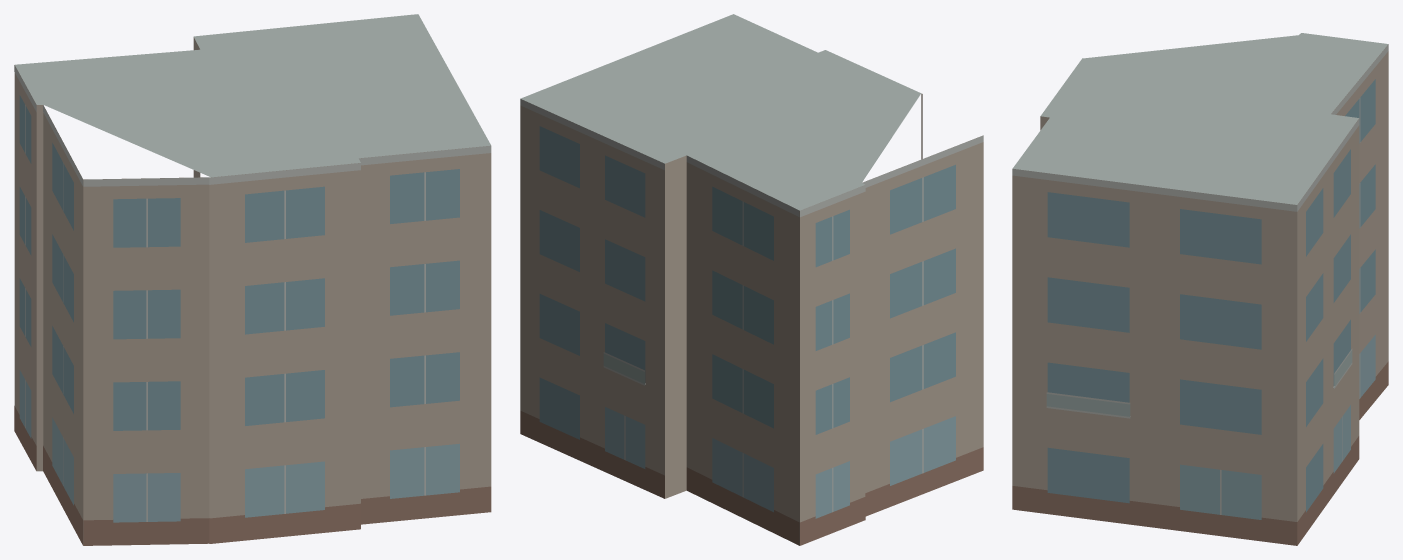
The model's file is survey-upis-32460633.glb.
3 views of the same model, side by side, from view 1: azimuth 30°, elevation 25°; view 2: azimuth 150°, elevation 25°; view 3: azimuth 270°, elevation 25° (orthographic). The views are drawn at different scales.
Visible parts, largest first — view 1: survey-upis-32460633.tmp; view 2: survey-upis-32460633.tmp; view 3: survey-upis-32460633.tmp.
Boxes of the visible parts, bbox=[...] form: survey-upis-32460633.tmp: bbox=[14, 14, 491, 545]; survey-upis-32460633.tmp: bbox=[520, 14, 983, 545]; survey-upis-32460633.tmp: bbox=[1012, 33, 1388, 545].
Bounding box in the file's own units: 14.66 × 12.19 × 12.2.
